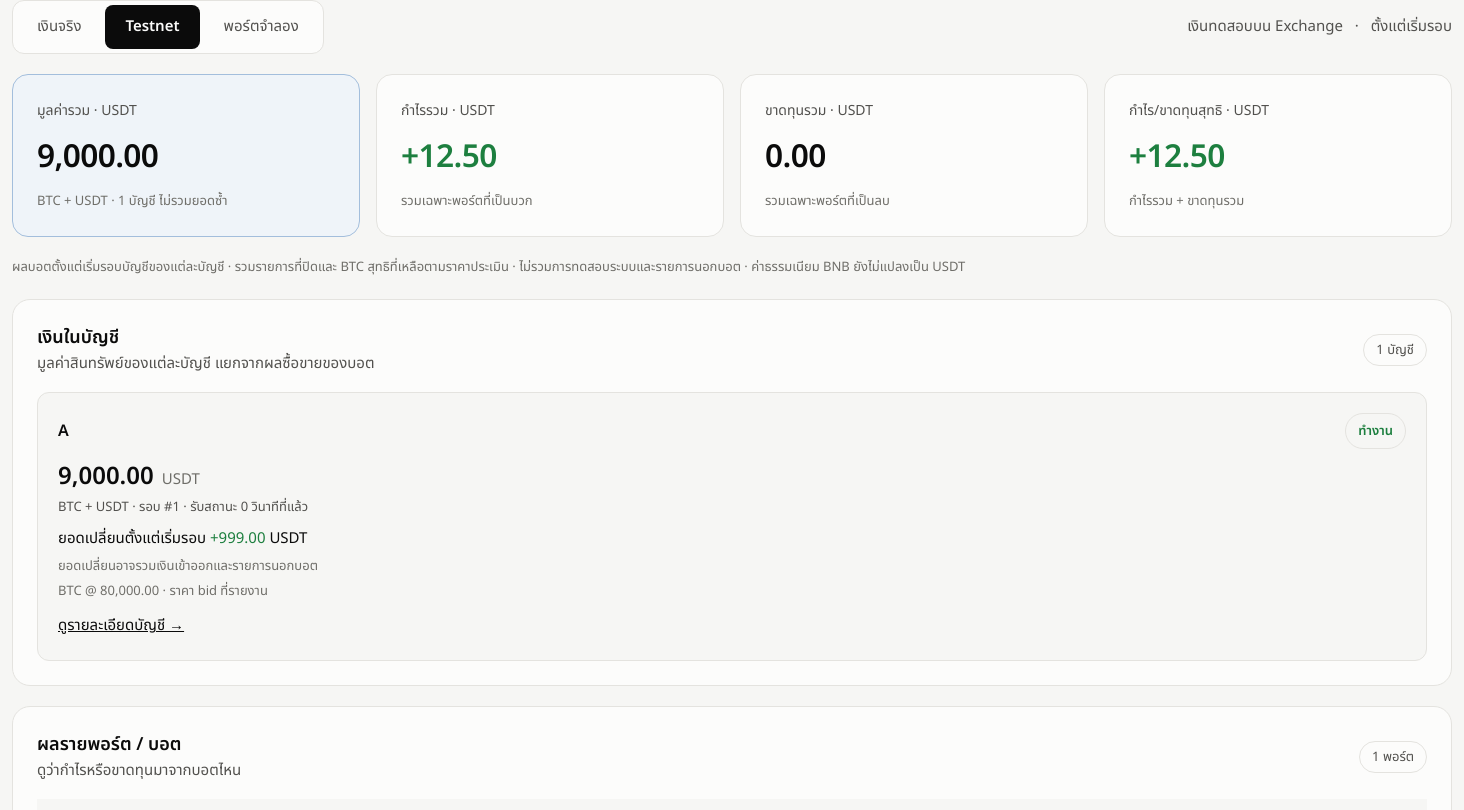
Test: account totals exclude conformance, outside trades, and other money modes
This screenshot has width=1464, height=810.
Expected: the element that starts with "มูลค่ารวม · USDT" shows "9,000.00", [37,133,158,181]
Expected: the element that starts with "มูลค่ารวม · USDT" shows "+12.50", [401,133,497,181]
Click the button "เงินจริง".
click(59, 27)  # box [17,5,101,49]
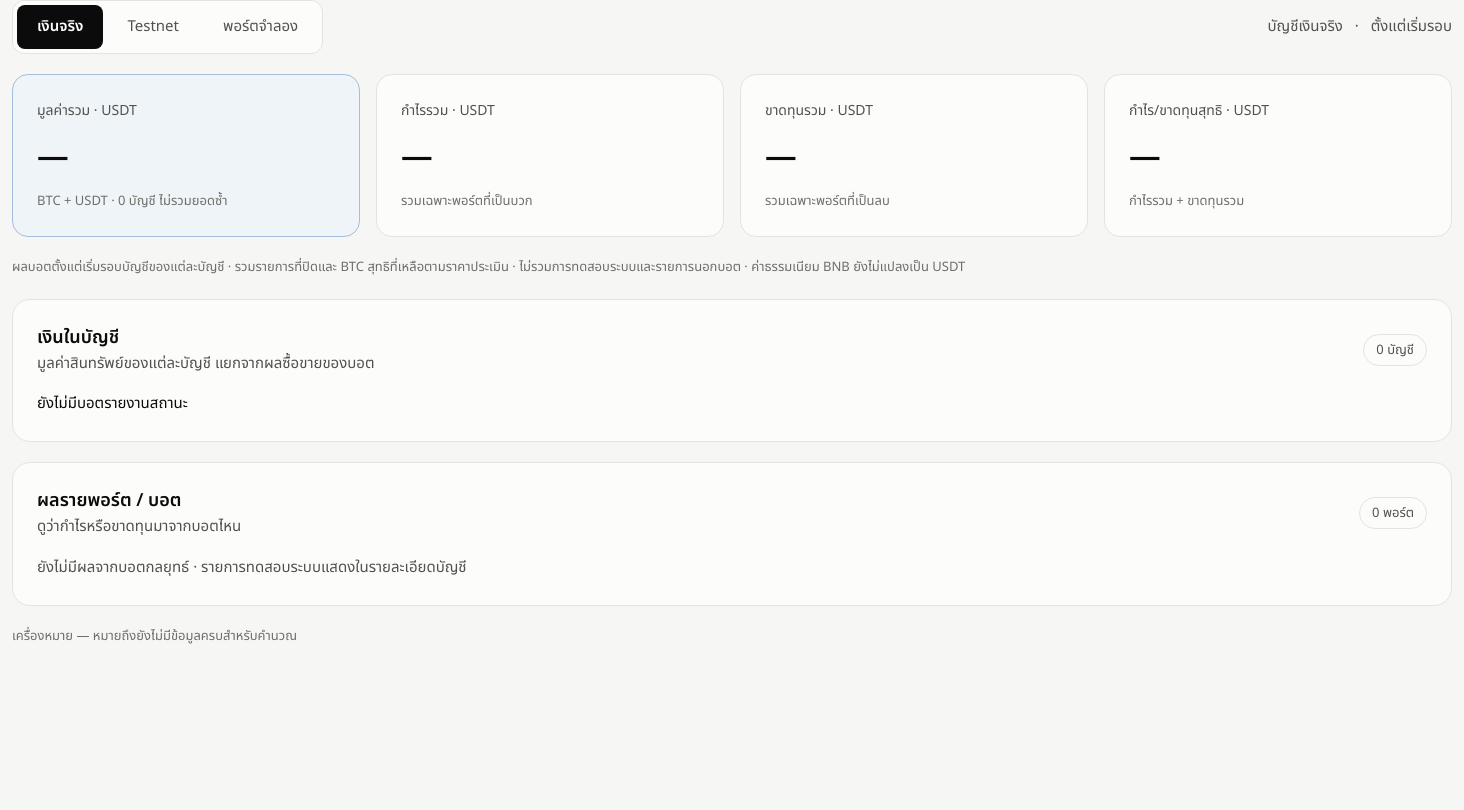
Result: the text "ยังไม่มีบอตรายงานสถานะ" is shown at [37,392,188,415]
